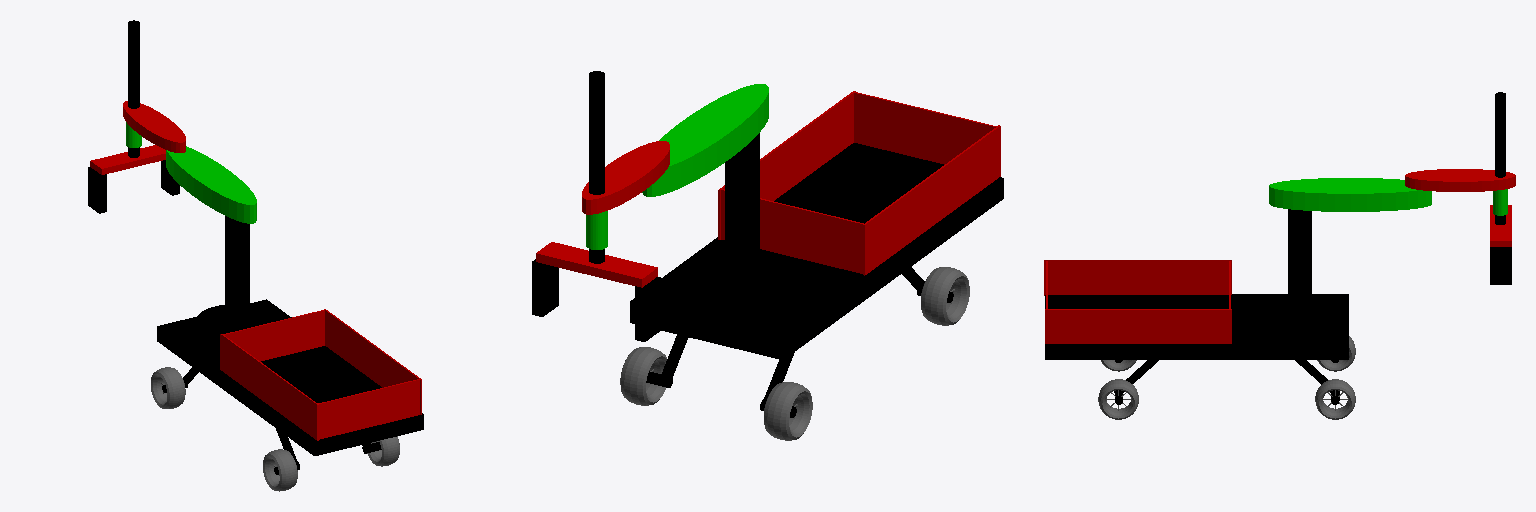
The robot description file, URDF, robot "rover":
<robot name="rover" version="1.0">
  <joint name="Brazo1_link_joint" type="revolute">
    <limit lower="-3.00000" upper="3.00000" effort="0.00000" velocity="0.00000"/>
    <origin rpy="0.00000 0.00000 1.57080" xyz="0.00000 1.05323 1.69829"/>
    <parent link="Chasis_link"/>
    <child link="Brazo1_link"/>
    <axis xyz="0.00000 0.00000 1.00000"/>
  </joint>
  <joint name="Brazo2_link_joint" type="revolute">
    <limit lower="-2.00000" upper="2.00000" effort="0.00000" velocity="0.00000"/>
    <origin rpy="0.00000 0.00000 -0.00000" xyz="1.43431 0.00000 0.19480"/>
    <parent link="Brazo1_link"/>
    <child link="Brazo2_link"/>
    <axis xyz="0.00000 0.00000 1.00000"/>
  </joint>
  <joint name="Compartimento4_link_joint" type="fixed">
    <origin rpy="0.00000 0.00000 0.00000" xyz="0.00000 -2.06753 0.24745"/>
    <parent link="Chasis_link"/>
    <child link="Compartimento4_link"/>
  </joint>
  <joint name="back_left_wheel_link_joint" type="continuous">
    <limit effort="0.00000" velocity="0.00000"/>
    <origin rpy="0.00000 -1.57080 0.00000" xyz="-0.70000 -1.18422 -0.74325"/>
    <parent link="Chasis_link"/>
    <child link="back_left_wheel_link"/>
    <axis xyz="0.00000 0.00000 1.00000"/>
  </joint>
  <joint name="back_right_wheel_link_joint" type="continuous">
    <limit effort="0.00000" velocity="0.00000"/>
    <origin rpy="0.00000 -1.57080 0.00000" xyz="0.70000 -1.18422 -0.74325"/>
    <parent link="Chasis_link"/>
    <child link="back_right_wheel_link"/>
    <axis xyz="0.00000 0.00000 1.00000"/>
  </joint>
  <joint name="front_left_wheel_link_joint" type="continuous">
    <limit effort="0.00000" velocity="0.00000"/>
    <origin rpy="0.00000 -1.57080 0.00000" xyz="-0.70000 1.47578 -0.74325"/>
    <parent link="Chasis_link"/>
    <child link="front_left_wheel_link"/>
    <axis xyz="0.00000 0.00000 1.00000"/>
  </joint>
  <joint name="front_right_wheel_link_joint" type="continuous">
    <limit effort="0.00000" velocity="0.00000"/>
    <origin rpy="0.00000 -1.57080 0.00000" xyz="0.70000 1.47578 -0.74325"/>
    <parent link="Chasis_link"/>
    <child link="front_right_wheel_link"/>
    <axis xyz="0.00000 0.00000 1.00000"/>
  </joint>
  <joint name="Brazo3_link_joint" type="revolute">
    <limit lower="-1.57000" upper="1.57000" effort="0.00000" velocity="0.00000"/>
    <origin rpy="0.00000 0.00000 -1.57080" xyz="1.01188 0.00000 -0.18676"/>
    <parent link="Brazo2_link"/>
    <child link="Brazo3_link"/>
    <axis xyz="0.00000 0.00000 1.00000"/>
  </joint>
  <joint name="Brazo4_link_joint" type="prismatic">
    <limit lower="-1.50000" upper="0.50000" effort="0.00000" velocity="0.00000"/>
    <origin rpy="0.00000 0.00000 0.00000" xyz="-0.00000 -0.00004 -0.14111"/>
    <parent link="Brazo3_link"/>
    <child link="Brazo4_link"/>
    <axis xyz="0.00000 0.00000 1.00000"/>
  </joint>
  <joint name="Brazo5_link_joint" type="fixed">
    <origin rpy="0.00000 0.00000 1.57080" xyz="0.00000 0.00000 -0.28645"/>
    <parent link="Brazo4_link"/>
    <child link="Brazo5_link"/>
  </joint>
  <joint name="Gripper1_link_joint" type="prismatic">
    <limit lower="0.00000" upper="0.30000" effort="0.00000" velocity="0.00000"/>
    <origin rpy="1.57080 1.57080 0.00000" xyz="0.00521 0.50000 -0.28960"/>
    <parent link="Brazo5_link"/>
    <child link="Gripper1_link"/>
    <axis xyz="0.00000 0.00000 1.00000"/>
  </joint>
  <joint name="Gripper2_link_joint" type="prismatic">
    <limit lower="-0.30000" upper="0.00000" effort="0.00000" velocity="0.00000"/>
    <origin rpy="1.57080 1.57080 0.00000" xyz="0.00520 -0.50000 -0.28960"/>
    <parent link="Brazo5_link"/>
    <child link="Gripper2_link"/>
    <axis xyz="0.00000 0.00000 1.00000"/>
  </joint>
  <joint name="Compartimento1_link_joint" type="fixed">
    <origin rpy="0.00000 0.00000 1.57080" xyz="-0.70760 -0.94501 0.24745"/>
    <parent link="Chasis_link"/>
    <child link="Compartimento1_link"/>
  </joint>
  <joint name="Compartimento2_link_joint" type="fixed">
    <origin rpy="0.00000 0.00000 1.57080" xyz="0.70760 -0.94468 0.24747"/>
    <parent link="Chasis_link"/>
    <child link="Compartimento2_link"/>
  </joint>
  <joint name="Compartimento3_link_joint" type="fixed">
    <origin rpy="0.00000 0.00000 0.00000" xyz="0.00000 0.17858 0.24745"/>
    <parent link="Chasis_link"/>
    <child link="Compartimento3_link"/>
  </joint>
  <link name="Chasis_link">
    <collision name="Chasis_collision">
      <origin rpy="0.00000 0.00000 0.00000" xyz="0.00000 0.00000 -0.00000"/>
      <geometry>
        <mesh filename="../meshes/dae/Cube.dae" scale="0.75000 0.37500 0.10000"/>
      </geometry>
    </collision>
    <inertial>
      <inertia ixx="187.06638" ixy="-0.01613" ixz="0.00145" iyy="48.14865" iyz="0.01146" izz="177.87628"/>
      <origin rpy="0.00000 0.00000 0.00000" xyz="-0.00000 -0.00000 0.00000"/>
      <mass value="150.00000"/>
    </inertial>
    <visual name="Chasis">
      <material name="Material.004"/>
      <origin rpy="0.00000 0.00000 0.00000" xyz="0.00000 0.00000 0.00000"/>
      <geometry>
        <mesh filename="../meshes/dae/Cube.dae" scale="0.75000 0.37500 0.10000"/>
      </geometry>
    </visual>
  </link>
  <link name="Brazo1_link">
    <collision name="Brazo1_collision">
      <origin rpy="0.00000 0.00000 0.00000" xyz="0.60693 0.00000 0.00000"/>
      <geometry>
        <mesh filename="../meshes/dae/Cylinder.dae" scale="1.00000 0.23300 0.12300"/>
      </geometry>
    </collision>
    <inertial>
      <inertia ixx="0.76033" ixy="-0.00000" ixz="0.00000" iyy="0.05558" iyz="0.00000" izz="0.78565"/>
      <origin rpy="0.00000 0.00000 0.00000" xyz="0.60693 0.00000 0.00000"/>
      <mass value="3.00000"/>
    </inertial>
    <visual name="Brazo1">
      <material name="Material.014"/>
      <origin rpy="0.00000 0.00000 0.00000" xyz="0.60693 0.00000 0.00000"/>
      <geometry>
        <mesh filename="../meshes/dae/Cylinder.dae" scale="1.00000 0.23300 0.12300"/>
      </geometry>
    </visual>
  </link>
  <link name="Compartimento3_link">
    <collision name="Compartimento3_collision">
      <origin rpy="0.00000 0.00000 0.00000" xyz="0.00000 0.00000 -0.00000"/>
      <geometry>
        <mesh filename="../meshes/dae/Cube.004.dae" scale="0.70000 0.01000 0.23300"/>
      </geometry>
    </collision>
    <inertial>
      <inertia ixx="0.01813" ixy="0.00000" ixz="0.00000" iyy="0.18143" iyz="0.00000" izz="0.16337"/>
      <origin rpy="0.00000 0.00000 0.00000" xyz="0.00000 -0.00000 -0.00000"/>
      <mass value="1.00000"/>
    </inertial>
    <visual name="Compartimento3">
      <material name="Material.018"/>
      <origin rpy="0.00000 0.00000 0.00000" xyz="0.00000 -0.00000 -0.00000"/>
      <geometry>
        <mesh filename="../meshes/dae/Cube.004.dae" scale="0.70000 0.01000 0.23300"/>
      </geometry>
    </visual>
  </link>
  <link name="Compartimento4_link">
    <collision name="Compartimento4_collision">
      <origin rpy="0.00000 0.00000 0.00000" xyz="0.00000 0.00000 -0.00000"/>
      <geometry>
        <mesh filename="../meshes/dae/Cube.005.dae" scale="0.70000 0.01000 0.23300"/>
      </geometry>
    </collision>
    <inertial>
      <inertia ixx="0.01813" ixy="0.00000" ixz="0.00000" iyy="0.18143" iyz="0.00000" izz="0.16337"/>
      <origin rpy="0.00000 0.00000 0.00000" xyz="0.00000 -0.00000 -0.00000"/>
      <mass value="1.00000"/>
    </inertial>
    <visual name="Compartimento4">
      <material name="Material.017"/>
      <origin rpy="0.00000 0.00000 0.00000" xyz="0.00000 0.00000 -0.00000"/>
      <geometry>
        <mesh filename="../meshes/dae/Cube.005.dae" scale="0.70000 0.01000 0.23300"/>
      </geometry>
    </visual>
  </link>
  <link name="back_left_wheel_link">
    <collision name="back_left_wheel_collision">
      <origin rpy="-0.78540 1.57080 0.00000" xyz="-0.00000 -0.00000 -0.00000"/>
      <geometry>
        <mesh filename="../meshes/dae/Cube.011.dae" scale="0.00500 0.00500 0.22500"/>
      </geometry>
    </collision>
    <inertial>
      <inertia ixx="0.29221" ixy="-0.00000" ixz="0.00000" iyy="0.17717" iyz="-0.00000" izz="0.17717"/>
      <origin rpy="0.00000 0.00000 0.00000" xyz="-0.00000 -0.00000 -0.00000"/>
      <mass value="10.00000"/>
    </inertial>
    <visual name="back_left_wheel">
      <material name="Material.003"/>
      <origin rpy="-0.78540 1.57080 0.00000" xyz="-0.00000 0.00000 -0.00000"/>
      <geometry>
        <mesh filename="../meshes/dae/Cube.011.dae" scale="0.00500 0.00500 0.22500"/>
      </geometry>
    </visual>
  </link>
  <link name="back_right_wheel_link">
    <collision name="back_right_wheel_collision">
      <origin rpy="-0.78540 1.57080 0.00000" xyz="-0.00000 -0.00000 -0.00000"/>
      <geometry>
        <mesh filename="../meshes/dae/Cube.013.dae" scale="0.00500 0.00500 0.22500"/>
      </geometry>
    </collision>
    <inertial>
      <inertia ixx="0.29221" ixy="-0.00000" ixz="0.00000" iyy="0.17717" iyz="-0.00000" izz="0.17717"/>
      <origin rpy="0.00000 0.00000 0.00000" xyz="-0.00000 -0.00000 0.00000"/>
      <mass value="10.00000"/>
    </inertial>
    <visual name="back_right_wheel">
      <material name="Material.002"/>
      <origin rpy="-0.78540 1.57080 0.00000" xyz="-0.00000 0.00000 0.00000"/>
      <geometry>
        <mesh filename="../meshes/dae/Cube.013.dae" scale="0.00500 0.00500 0.22500"/>
      </geometry>
    </visual>
  </link>
  <link name="front_left_wheel_link">
    <collision name="front_left_wheel_collision">
      <origin rpy="-0.78540 1.57080 0.00000" xyz="-0.00000 0.00000 -0.00000"/>
      <geometry>
        <mesh filename="../meshes/dae/Cube.008.dae" scale="0.00500 0.00500 0.22500"/>
      </geometry>
    </collision>
    <inertial>
      <inertia ixx="0.29221" ixy="-0.00000" ixz="0.00000" iyy="0.17717" iyz="-0.00000" izz="0.17717"/>
      <origin rpy="0.00000 0.00000 0.00000" xyz="-0.00000 0.00000 -0.00000"/>
      <mass value="10.00000"/>
    </inertial>
    <visual name="front_left_wheel">
      <material name="Material.001"/>
      <origin rpy="-0.78540 1.57080 0.00000" xyz="-0.00000 0.00000 -0.00000"/>
      <geometry>
        <mesh filename="../meshes/dae/Cube.008.dae" scale="0.00500 0.00500 0.22500"/>
      </geometry>
    </visual>
  </link>
  <link name="front_right_wheel_link">
    <collision name="front_right_wheel_collision">
      <origin rpy="-0.78540 1.57080 0.00000" xyz="-0.00000 0.00000 -0.00000"/>
      <geometry>
        <mesh filename="../meshes/dae/Cube.012.dae" scale="0.00500 0.00500 0.22500"/>
      </geometry>
    </collision>
    <inertial>
      <inertia ixx="0.29221" ixy="-0.00000" ixz="0.00000" iyy="0.17717" iyz="-0.00000" izz="0.17717"/>
      <origin rpy="0.00000 0.00000 0.00000" xyz="-0.00000 0.00000 0.00000"/>
      <mass value="10.00000"/>
    </inertial>
    <visual name="front_right_wheel">
      <material name="Material"/>
      <origin rpy="-0.78540 1.57080 0.00000" xyz="-0.00000 0.00000 0.00000"/>
      <geometry>
        <mesh filename="../meshes/dae/Cube.012.dae" scale="0.00500 0.00500 0.22500"/>
      </geometry>
    </visual>
  </link>
  <link name="Brazo2_link">
    <collision name="Brazo2_collision">
      <origin rpy="0.00000 0.00000 0.00000" xyz="0.51995 0.00000 -0.00000"/>
      <geometry>
        <mesh filename="../meshes/dae/Cylinder.013.dae" scale="0.67571 0.18837 0.07006"/>
      </geometry>
    </collision>
    <inertial>
      <inertia ixx="0.17258" ixy="-0.00000" ixz="0.00000" iyy="0.01568" iyz="0.00000" izz="0.18335"/>
      <origin rpy="0.00000 0.00000 0.00000" xyz="0.51995 0.00000 0.00000"/>
      <mass value="1.50000"/>
    </inertial>
    <visual name="Brazo2">
      <material name="Material.007"/>
      <origin rpy="0.00000 0.00000 0.00000" xyz="0.51995 0.00000 0.00000"/>
      <geometry>
        <mesh filename="../meshes/dae/Cylinder.013.dae" scale="0.67571 0.18837 0.07006"/>
      </geometry>
    </visual>
  </link>
  <link name="Brazo3_link">
    <collision name="Brazo3_collision">
      <origin rpy="0.00000 0.00000 0.00000" xyz="-0.00000 0.00000 -0.00000"/>
      <geometry>
        <mesh filename="../meshes/dae/Cylinder.016.dae" scale="0.09429 0.09429 0.24632"/>
      </geometry>
    </collision>
    <inertial>
      <inertia ixx="0.02243" ixy="0.00000" ixz="0.00000" iyy="0.02243" iyz="0.00000" izz="0.00442"/>
      <origin rpy="0.00000 0.00000 0.00000" xyz="-0.00000 0.00000 -0.00000"/>
      <mass value="1.00000"/>
    </inertial>
    <visual name="Brazo3">
      <material name="Material.015"/>
      <origin rpy="0.00000 0.00000 0.00000" xyz="-0.00000 0.00000 -0.00000"/>
      <geometry>
        <mesh filename="../meshes/dae/Cylinder.016.dae" scale="0.09429 0.09429 0.24632"/>
      </geometry>
    </visual>
  </link>
  <link name="Brazo4_link">
    <collision name="Brazo4_collision">
      <origin rpy="0.00000 0.00000 0.00000" xyz="0.00000 0.00000 0.60807"/>
      <geometry>
        <mesh filename="../meshes/dae/Cylinder.018.dae" scale="0.06875 0.06875 0.88360"/>
      </geometry>
    </collision>
    <inertial>
      <inertia ixx="0.26142" ixy="-0.00000" ixz="-0.00000" iyy="0.26142" iyz="-0.00000" izz="0.00235"/>
      <origin rpy="0.00000 0.00000 0.00000" xyz="0.00000 0.00000 -0.00000"/>
      <mass value="1.00000"/>
    </inertial>
    <visual name="Brazo4">
      <material name="Material.011"/>
      <origin rpy="0.00000 0.00000 0.00000" xyz="0.00000 0.00000 0.60807"/>
      <geometry>
        <mesh filename="../meshes/dae/Cylinder.018.dae" scale="0.06875 0.06875 0.88360"/>
      </geometry>
    </visual>
  </link>
  <link name="Brazo5_link">
    <collision name="Brazo5_collision">
      <origin rpy="0.00000 0.00000 0.00000" xyz="0.00000 0.00000 -0.00000"/>
      <geometry>
        <mesh filename="../meshes/dae/Cube.029.dae" scale="0.53959 2.07906 0.16559"/>
      </geometry>
    </collision>
    <inertial>
      <inertia ixx="0.00664" ixy="-0.00000" ixz="0.00000" iyy="0.09062" iyz="0.00000" izz="0.09612"/>
      <origin rpy="0.00000 0.00000 0.00000" xyz="0.00000 0.00000 -0.00000"/>
      <mass value="1.00000"/>
    </inertial>
    <visual name="Brazo5">
      <material name="Material.010"/>
      <origin rpy="0.00000 0.00000 0.00000" xyz="0.00000 0.00000 -0.00000"/>
      <geometry>
        <mesh filename="../meshes/dae/Cube.029.dae" scale="0.53959 2.07906 0.16559"/>
      </geometry>
    </visual>
  </link>
  <link name="Gripper1_link">
    <collision name="Gripper1_collision">
      <origin rpy="-1.57080 0.00000 1.57080" xyz="0.00000 0.00000 -0.00000"/>
      <geometry>
        <mesh filename="../meshes/dae/Cube.031.dae" scale="0.53728 0.20000 1.00000"/>
      </geometry>
    </collision>
    <inertial>
      <inertia ixx="0.01342" ixy="-0.00000" ixz="-0.00000" iyy="0.01083" iyz="0.00000" izz="0.00342"/>
      <origin rpy="0.00000 0.00000 0.00000" xyz="0.00000 0.00000 -0.00000"/>
      <mass value="0.50000"/>
    </inertial>
    <visual name="Gripper1">
      <material name="Material.012"/>
      <origin rpy="-1.57080 -0.00000 1.57080" xyz="0.00000 0.00000 -0.00000"/>
      <geometry>
        <mesh filename="../meshes/dae/Cube.031.dae" scale="0.53728 0.20000 1.00000"/>
      </geometry>
    </visual>
  </link>
  <link name="Gripper2_link">
    <collision name="Gripper2_collision">
      <origin rpy="-1.57080 0.00000 1.57080" xyz="0.00000 0.00000 0.00000"/>
      <geometry>
        <mesh filename="../meshes/dae/Cube.032.dae" scale="0.53728 0.20000 1.00000"/>
      </geometry>
    </collision>
    <inertial>
      <inertia ixx="0.01342" ixy="-0.00000" ixz="-0.00000" iyy="0.01083" iyz="0.00000" izz="0.00342"/>
      <origin rpy="0.00000 0.00000 0.00000" xyz="0.00000 0.00000 0.00000"/>
      <mass value="0.50000"/>
    </inertial>
    <visual name="Gripper2">
      <material name="Material.013"/>
      <origin rpy="-1.57080 -0.00000 1.57080" xyz="0.00000 0.00000 0.00000"/>
      <geometry>
        <mesh filename="../meshes/dae/Cube.032.dae" scale="0.53728 0.20000 1.00000"/>
      </geometry>
    </visual>
  </link>
  <link name="Compartimento1_link">
    <collision name="Compartimento1_collision">
      <origin rpy="0.00000 0.00000 0.00000" xyz="-0.00000 -0.00000 -0.00000"/>
      <geometry>
        <mesh filename="../meshes/dae/Cube.002.dae" scale="1.15000 0.00946 0.23944"/>
      </geometry>
    </collision>
    <inertial>
      <inertia ixx="0.45994" ixy="-0.00000" ixz="0.00000" iyy="0.01914" iyz="0.00000" izz="0.44086"/>
      <origin rpy="0.00000 0.00000 0.00000" xyz="-0.00000 -0.00000 -0.00000"/>
      <mass value="1.00000"/>
    </inertial>
    <visual name="Compartimento1">
      <material name="Material.016"/>
      <origin rpy="0.00000 0.00000 0.00000" xyz="-0.00000 -0.00000 -0.00000"/>
      <geometry>
        <mesh filename="../meshes/dae/Cube.002.dae" scale="1.15000 0.00946 0.23944"/>
      </geometry>
    </visual>
  </link>
  <link name="Compartimento2_link">
    <collision name="Compartimento2_collision">
      <origin rpy="0.00000 0.00000 0.00000" xyz="0.00000 -0.00000 0.00000"/>
      <geometry>
        <mesh filename="../meshes/dae/Cube.003.dae" scale="1.15000 0.01000 0.23300"/>
      </geometry>
    </collision>
    <inertial>
      <inertia ixx="0.45893" ixy="-0.00000" ixz="0.00000" iyy="0.01813" iyz="0.00000" izz="0.44087"/>
      <origin rpy="0.00000 0.00000 0.00000" xyz="0.00000 -0.00000 0.00000"/>
      <mass value="1.00000"/>
    </inertial>
    <visual name="Compartimento2">
      <material name="Material.019"/>
      <origin rpy="0.00000 0.00000 0.00000" xyz="0.00000 -0.00000 0.00000"/>
      <geometry>
        <mesh filename="../meshes/dae/Cube.003.dae" scale="1.15000 0.01000 0.23300"/>
      </geometry>
    </visual>
  </link>
  <material name="Material">
    <color rgba="0.42353 0.42353 0.42353 1.00000"/>
  </material>
  <material name="Material.001">
    <color rgba="0.42353 0.42353 0.42353 1.00000"/>
  </material>
  <material name="Material.002">
    <color rgba="0.42353 0.42353 0.42353 1.00000"/>
  </material>
  <material name="Material.003">
    <color rgba="0.42353 0.42353 0.42353 1.00000"/>
  </material>
  <material name="Material.004">
    <color rgba="0.00000 0.00000 0.00000 1.00000"/>
  </material>
  <material name="Material.007">
    <color rgba="0.79608 0.00784 0.00000 1.00000"/>
  </material>
  <material name="Material.010">
    <color rgba="0.80000 0.00000 0.00000 1.00000"/>
  </material>
  <material name="Material.011">
    <color rgba="0.00000 0.00000 0.00000 1.00000"/>
  </material>
  <material name="Material.012">
    <color rgba="0.00000 0.00000 0.00000 1.00000"/>
  </material>
  <material name="Material.013">
    <color rgba="0.00000 0.00000 0.00000 1.00000"/>
  </material>
  <material name="Material.014">
    <color rgba="0.00000 0.80000 0.00000 1.00000"/>
  </material>
  <material name="Material.015">
    <color rgba="0.00000 0.80000 0.00000 1.00000"/>
  </material>
  <material name="Material.016">
    <color rgba="0.80000 0.00000 0.00000 1.00000"/>
  </material>
  <material name="Material.017">
    <color rgba="0.80000 0.00000 0.00000 1.00000"/>
  </material>
  <material name="Material.018">
    <color rgba="0.80000 0.00000 0.00000 1.00000"/>
  </material>
  <material name="Material.019">
    <color rgba="0.80000 0.00000 0.00000 1.00000"/>
  </material>
</robot>

--- Render facts (derived) ---
Views: 3 orthographic renders of the robot side by side, from view 1: azimuth 30°, elevation 25°; view 2: azimuth 150°, elevation 25°; view 3: azimuth 270°, elevation 25°.
Robot: rover — 16 links, 15 joints (3 revolute, 4 continuous, 3 prismatic, 5 fixed); root link Chasis_link; default pose: all joints at 0.
Visible links, largest first — view 1: Chasis_link, Brazo1_link, Compartimento1_link, Compartimento4_link, Compartimento3_link, Compartimento2_link, Brazo2_link, Brazo4_link, back_left_wheel_link, front_left_wheel_link, Brazo5_link, Gripper1_link (+1 smaller); view 2: Chasis_link, Compartimento1_link, Brazo1_link, Compartimento4_link, Compartimento3_link, Compartimento2_link, Brazo2_link, Brazo5_link, back_left_wheel_link, front_left_wheel_link, Brazo4_link, front_right_wheel_link (+3 smaller); view 3: Chasis_link, Compartimento2_link, Compartimento1_link, Brazo1_link, Brazo2_link, Brazo4_link, front_right_wheel_link, back_right_wheel_link, Gripper2_link, Brazo5_link.
Link boxes in pixels (x1,y1,x2,y2): Chasis_link: (157,216,423,474); Brazo1_link: (166,146,256,223); Compartimento1_link: (220,334,318,440); Compartimento4_link: (318,379,419,439); Compartimento3_link: (223,310,324,361); Compartimento2_link: (324,309,421,414); Brazo2_link: (123,101,185,152); Brazo4_link: (128,20,139,157); back_left_wheel_link: (263,449,297,491); front_left_wheel_link: (151,367,185,408); Brazo5_link: (90,145,165,174); Gripper1_link: (88,167,106,213); Chasis_link: (630,133,1003,417); Compartimento1_link: (863,125,1000,275); Brazo1_link: (642,84,768,196); Compartimento4_link: (854,92,996,164); Compartimento3_link: (721,189,863,273); Compartimento2_link: (718,91,855,239); Brazo2_link: (582,141,669,214); Brazo5_link: (536,242,657,287); back_left_wheel_link: (921,267,969,325); front_left_wheel_link: (764,382,812,440); Brazo4_link: (589,71,604,263); front_right_wheel_link: (620,347,666,405); Chasis_link: (1045,209,1348,404); Compartimento2_link: (1045,309,1231,343); Compartimento1_link: (1044,260,1231,295); Brazo1_link: (1269,178,1431,211); Brazo2_link: (1405,169,1515,191); Brazo4_link: (1495,92,1505,224); front_right_wheel_link: (1315,379,1355,419); back_right_wheel_link: (1098,379,1138,419); Gripper2_link: (1490,247,1511,284); Brazo5_link: (1490,205,1511,246).
Bounding box of the posed robot: 1.65 × 5.78 × 4.05 m (x, y, z).
Meshes: 16 distinct files referenced, 16 mesh visuals loaded (16 Collada DAE).
